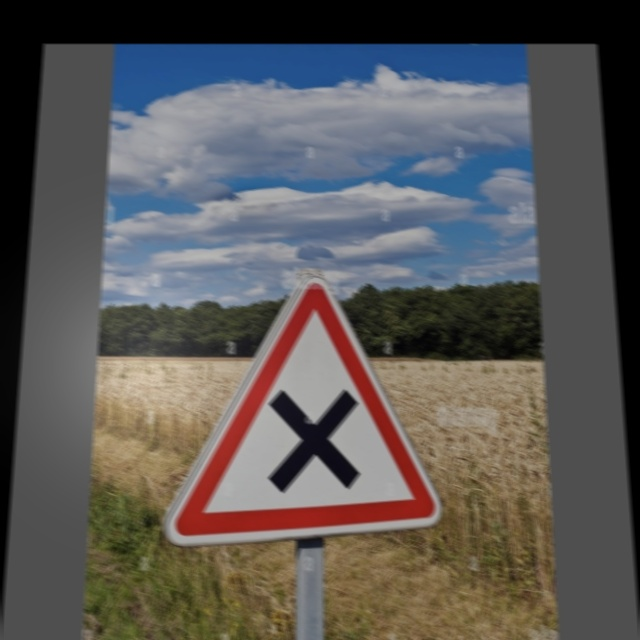Cross_Road: (177, 277, 442, 544)
